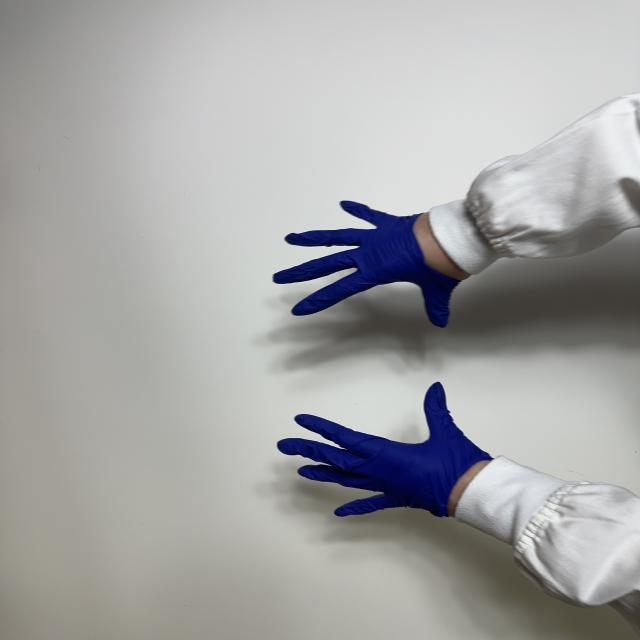glove_not_fitted: (270, 383, 498, 521), (270, 197, 472, 330)
